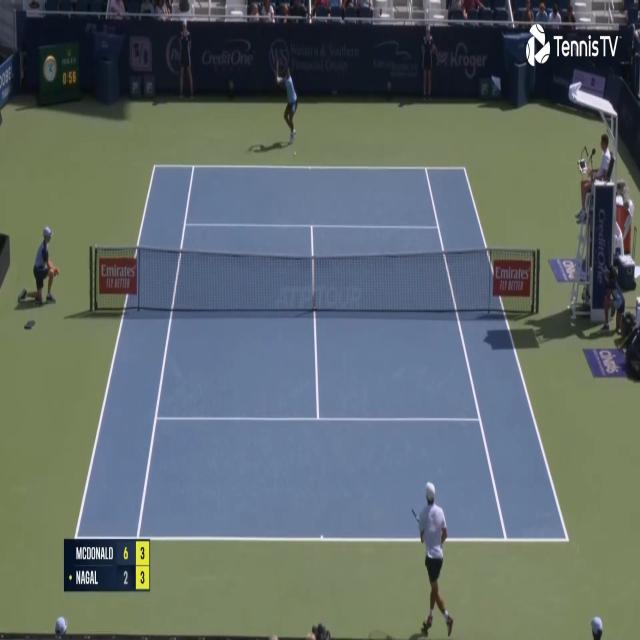tennis-player: (412, 479, 454, 639), (274, 63, 300, 144)
